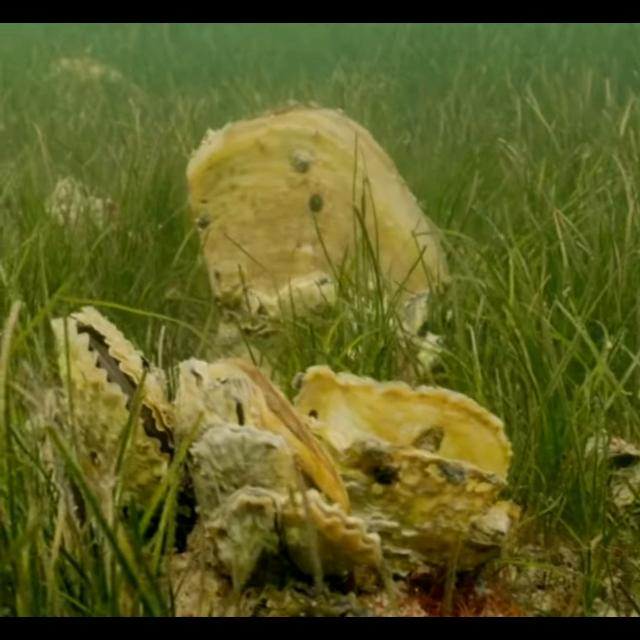Oyster-Closed: (184, 104, 452, 336), (171, 358, 353, 514), (187, 423, 293, 521)
Oyster-Open: (291, 363, 523, 574), (50, 304, 180, 516), (206, 484, 384, 594)
